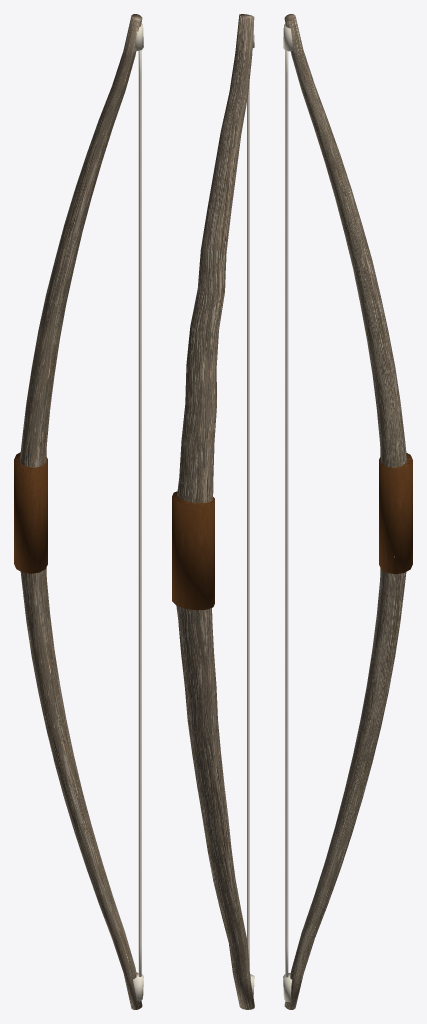
Rendered from SM_Item_bow.gltf.
3 renders of one model, left to right at view 1: azimuth 90°, elevation 25°; view 2: azimuth 150°, elevation 25°; view 3: azimuth 270°, elevation 25°, orthographic.
Parts seen in each view (by area): view 1: SM_Item_bow; view 2: SM_Item_bow; view 3: SM_Item_bow.
Boxes of the visible parts, x1,y1,x2,y2 form: SM_Item_bow: (14, 14, 143, 1009); SM_Item_bow: (172, 14, 254, 1009); SM_Item_bow: (283, 14, 412, 1009).
Bounding box in the file's own units: 0.0554 × 1.32 × 0.157.
Materials: 3 (2 with a texture image).
